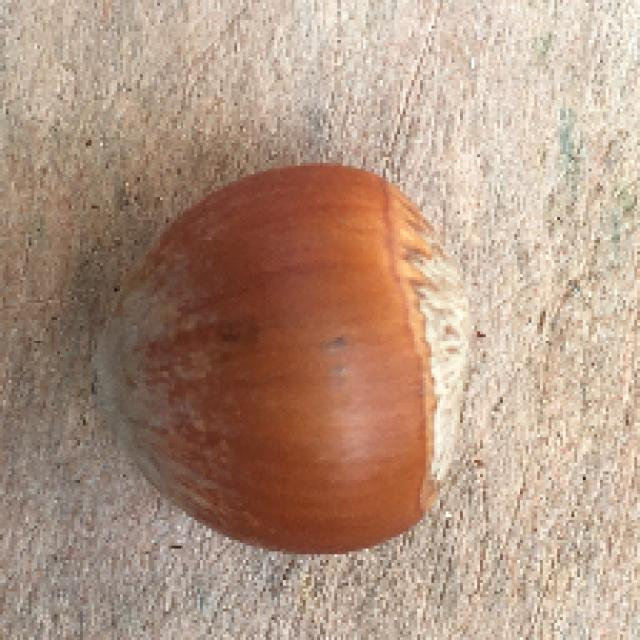qualityHazelnut: (90, 159, 482, 552)
